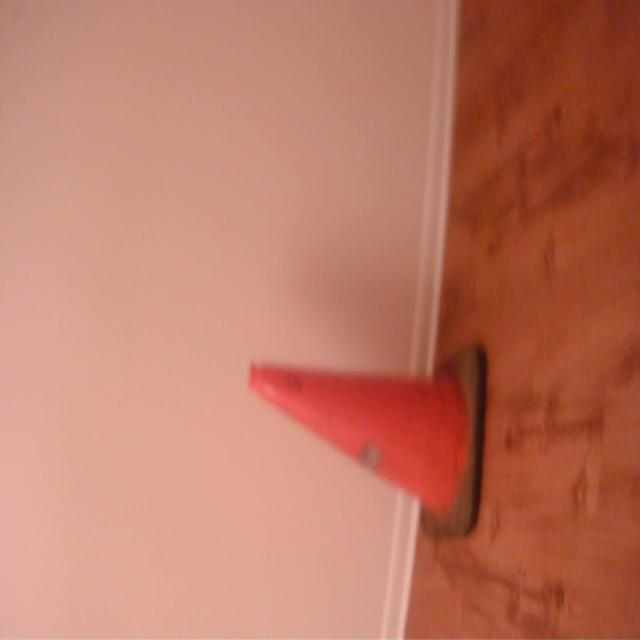traffic cone: (243, 339, 492, 547)
